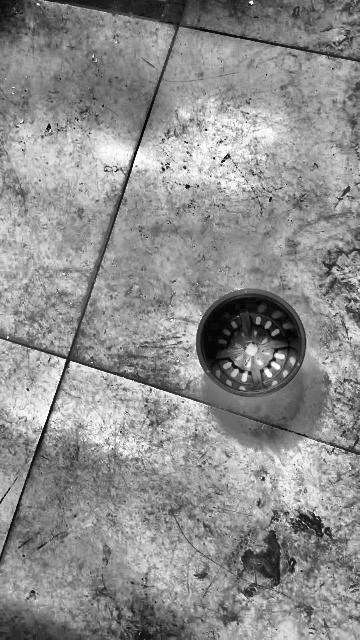pot: (196, 291, 307, 396)
